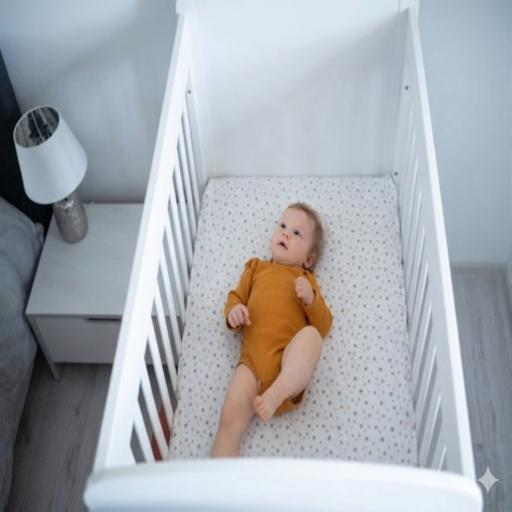baby: (212, 204, 332, 456)
crib: (85, 0, 482, 511)
